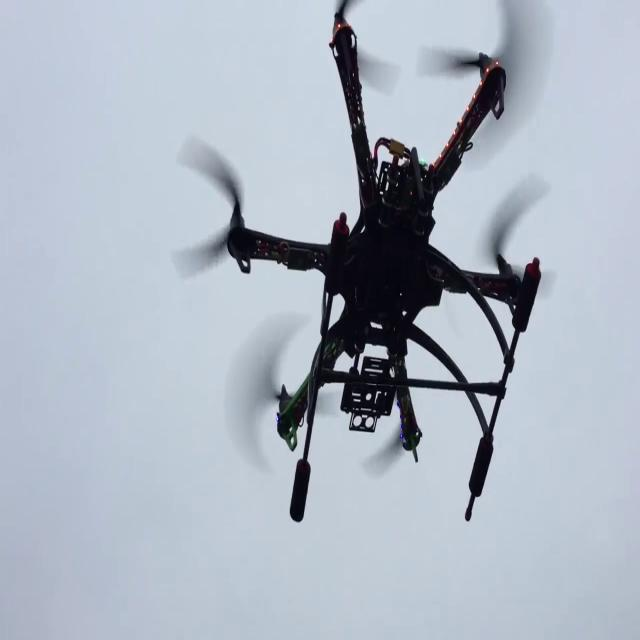drone: (134, 0, 624, 528)
